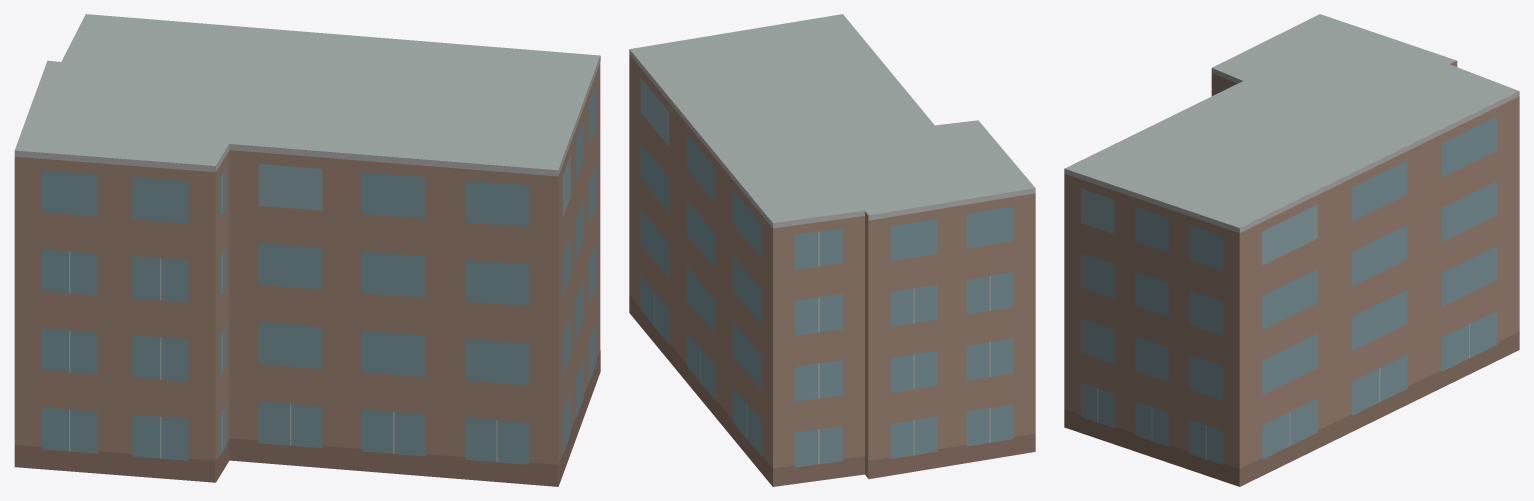
Rendered from survey-upis-32629654.glb.
3 renders of one model, left to right at view 1: azimuth 30°, elevation 25°; view 2: azimuth 150°, elevation 25°; view 3: azimuth 270°, elevation 25°, orthographic. The views are drawn at different scales.
Parts seen in each view (by area): view 1: survey-upis-32629654.tmp; view 2: survey-upis-32629654.tmp; view 3: survey-upis-32629654.tmp.
Part boxes in pixels (box(x1,y1,x2,y2)): survey-upis-32629654.tmp: box(14, 14, 600, 486); survey-upis-32629654.tmp: box(629, 14, 1035, 486); survey-upis-32629654.tmp: box(1064, 14, 1519, 486).
Bounding box in the file's own units: 22.01 × 12.4 × 19.77.
